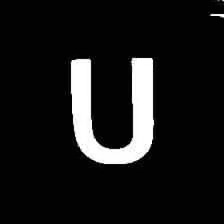LTR_U: (60, 47, 162, 172)
